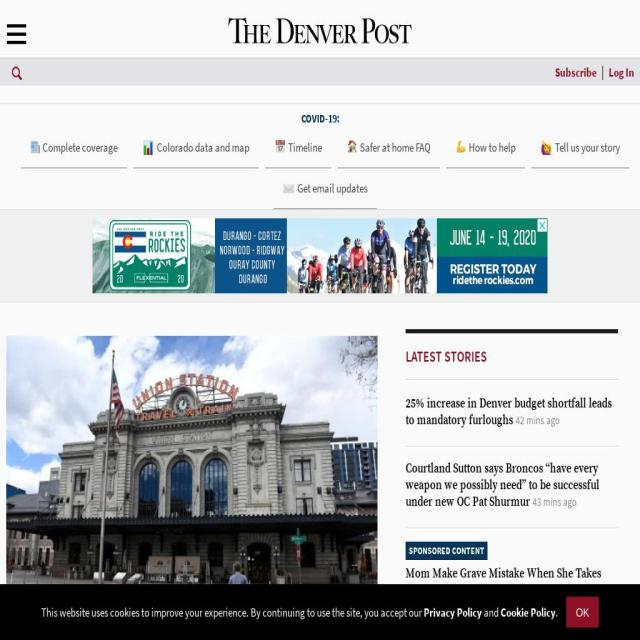button: (134, 128, 258, 168), (19, 128, 126, 168), (531, 125, 630, 168), (272, 172, 379, 210), (338, 128, 439, 168), (446, 127, 524, 167), (265, 128, 329, 168), (551, 61, 600, 87), (567, 597, 600, 630), (603, 62, 639, 86), (5, 16, 30, 50), (5, 59, 29, 86), (538, 218, 548, 235)
heading: (227, 14, 419, 52), (406, 348, 488, 368), (299, 108, 343, 128)
iframe: (91, 215, 548, 295), (1, 584, 639, 640)
image: (7, 336, 374, 585), (285, 215, 437, 295), (93, 215, 216, 290), (539, 138, 551, 157), (28, 137, 40, 155), (344, 137, 357, 153), (455, 137, 466, 154), (274, 139, 286, 154), (142, 140, 153, 156), (284, 179, 294, 196)
link: (424, 607, 483, 622), (500, 610, 558, 620)
text: (403, 460, 603, 512), (40, 606, 559, 624), (401, 539, 604, 583), (438, 215, 546, 296), (404, 397, 614, 430), (216, 214, 286, 293)
